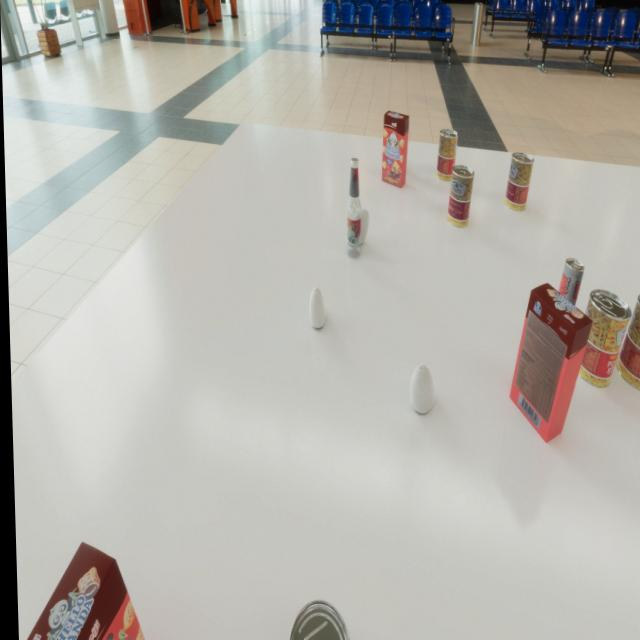Bottle: (343, 158, 362, 258)
HelloPanda: (504, 283, 594, 443), (379, 110, 410, 188)
Potato_sticks: (568, 289, 632, 388), (502, 152, 534, 212), (445, 165, 475, 228), (434, 129, 458, 181)
Rita_zero_sugar: (549, 258, 585, 330), (395, 126, 408, 171)
Salt: (407, 364, 433, 414), (344, 208, 368, 246), (307, 287, 324, 328)
